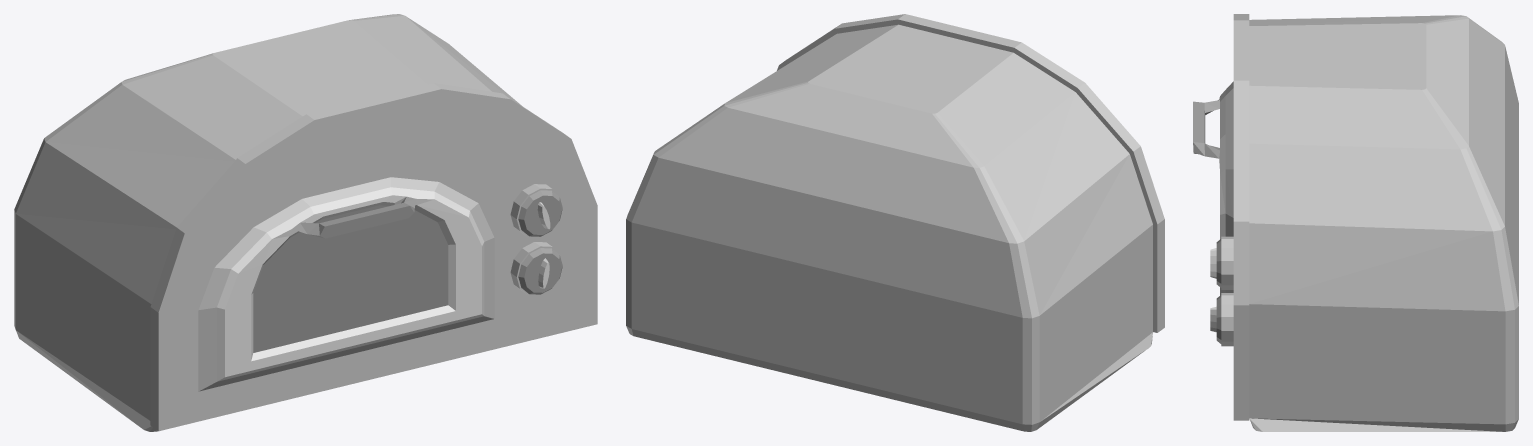
Rendered from Forno.FBX.
3 renders of one model, left to right at view 1: azimuth 30°, elevation 25°; view 2: azimuth 150°, elevation 25°; view 3: azimuth 270°, elevation 25°, orthographic. The views are drawn at different scales.
Parts seen in each view (by area): view 1: Oven, Object001; view 2: Oven; view 3: Oven.
Boxes of the visible parts, <box> form: Oven: <box>14,14,597,431</box>; Object001: <box>253,205,448,352</box>; Oven: <box>626,14,1164,431</box>; Oven: <box>1193,14,1518,431</box>.
Size of the model in its own units: 569 by 346 by 367.
